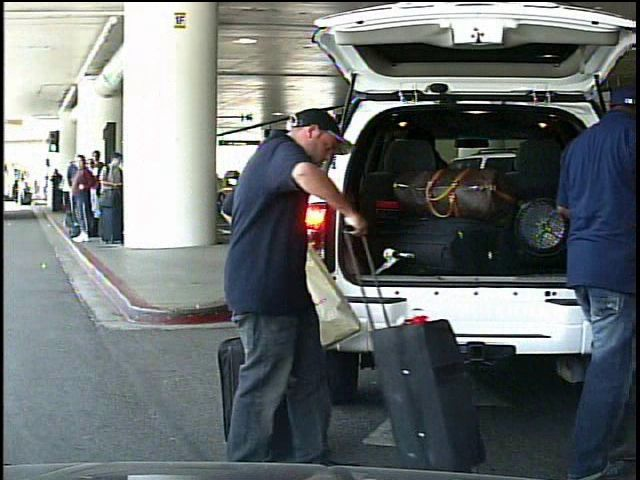person: (207, 97, 373, 471), (515, 78, 640, 480), (18, 177, 29, 208)
